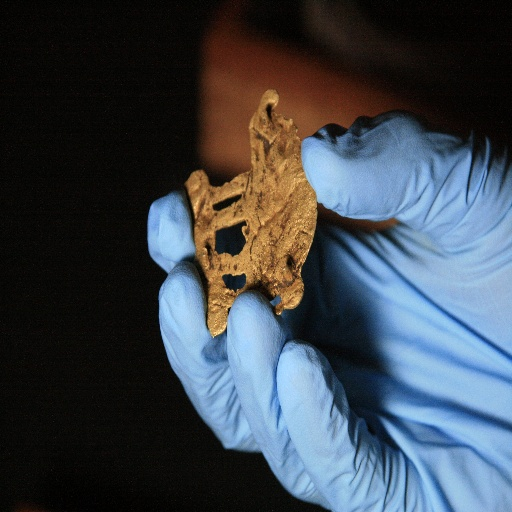hand: (146, 110, 511, 511)
